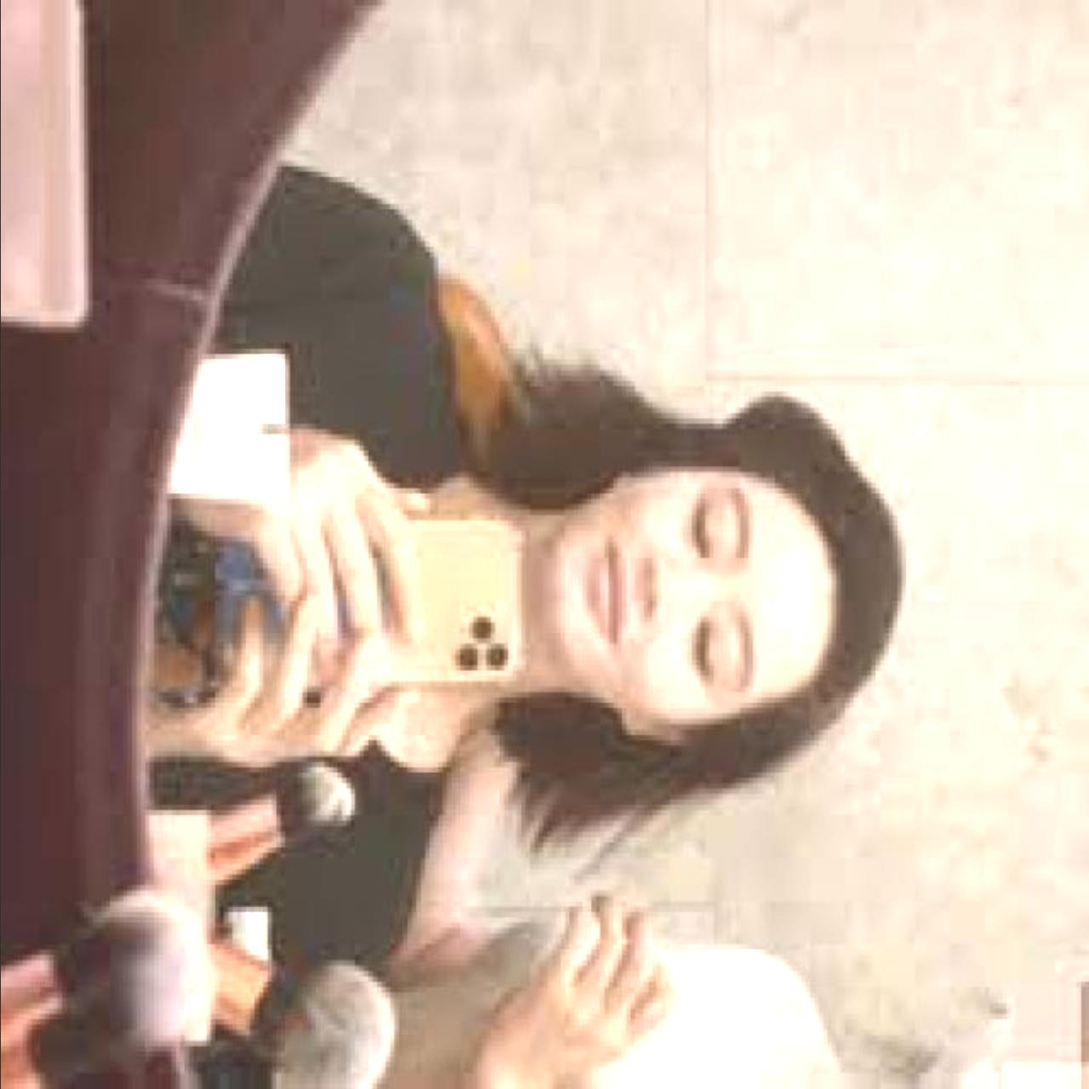phone: (225, 516, 527, 689)
